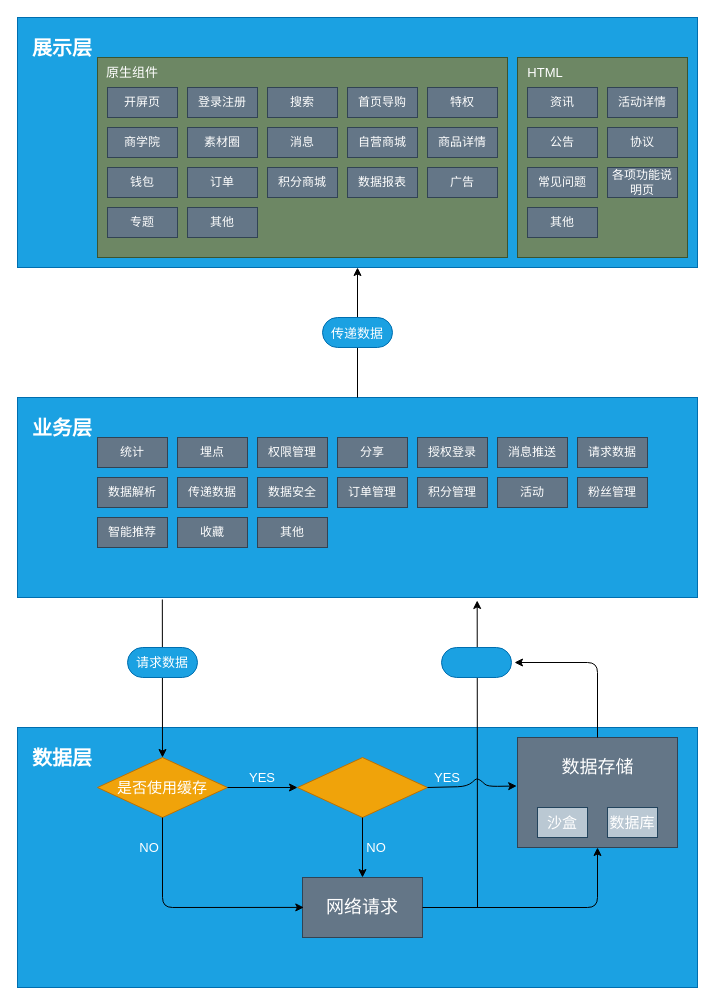
The diagram is 715 pixels wide and 1005 high, and some of its shapes have lost their labels. Here are the shapes that lost their labels. From the top down, the centre of each, then its label:
the point at 476,662: 返回数据
the point at 362,787: 有缓存
